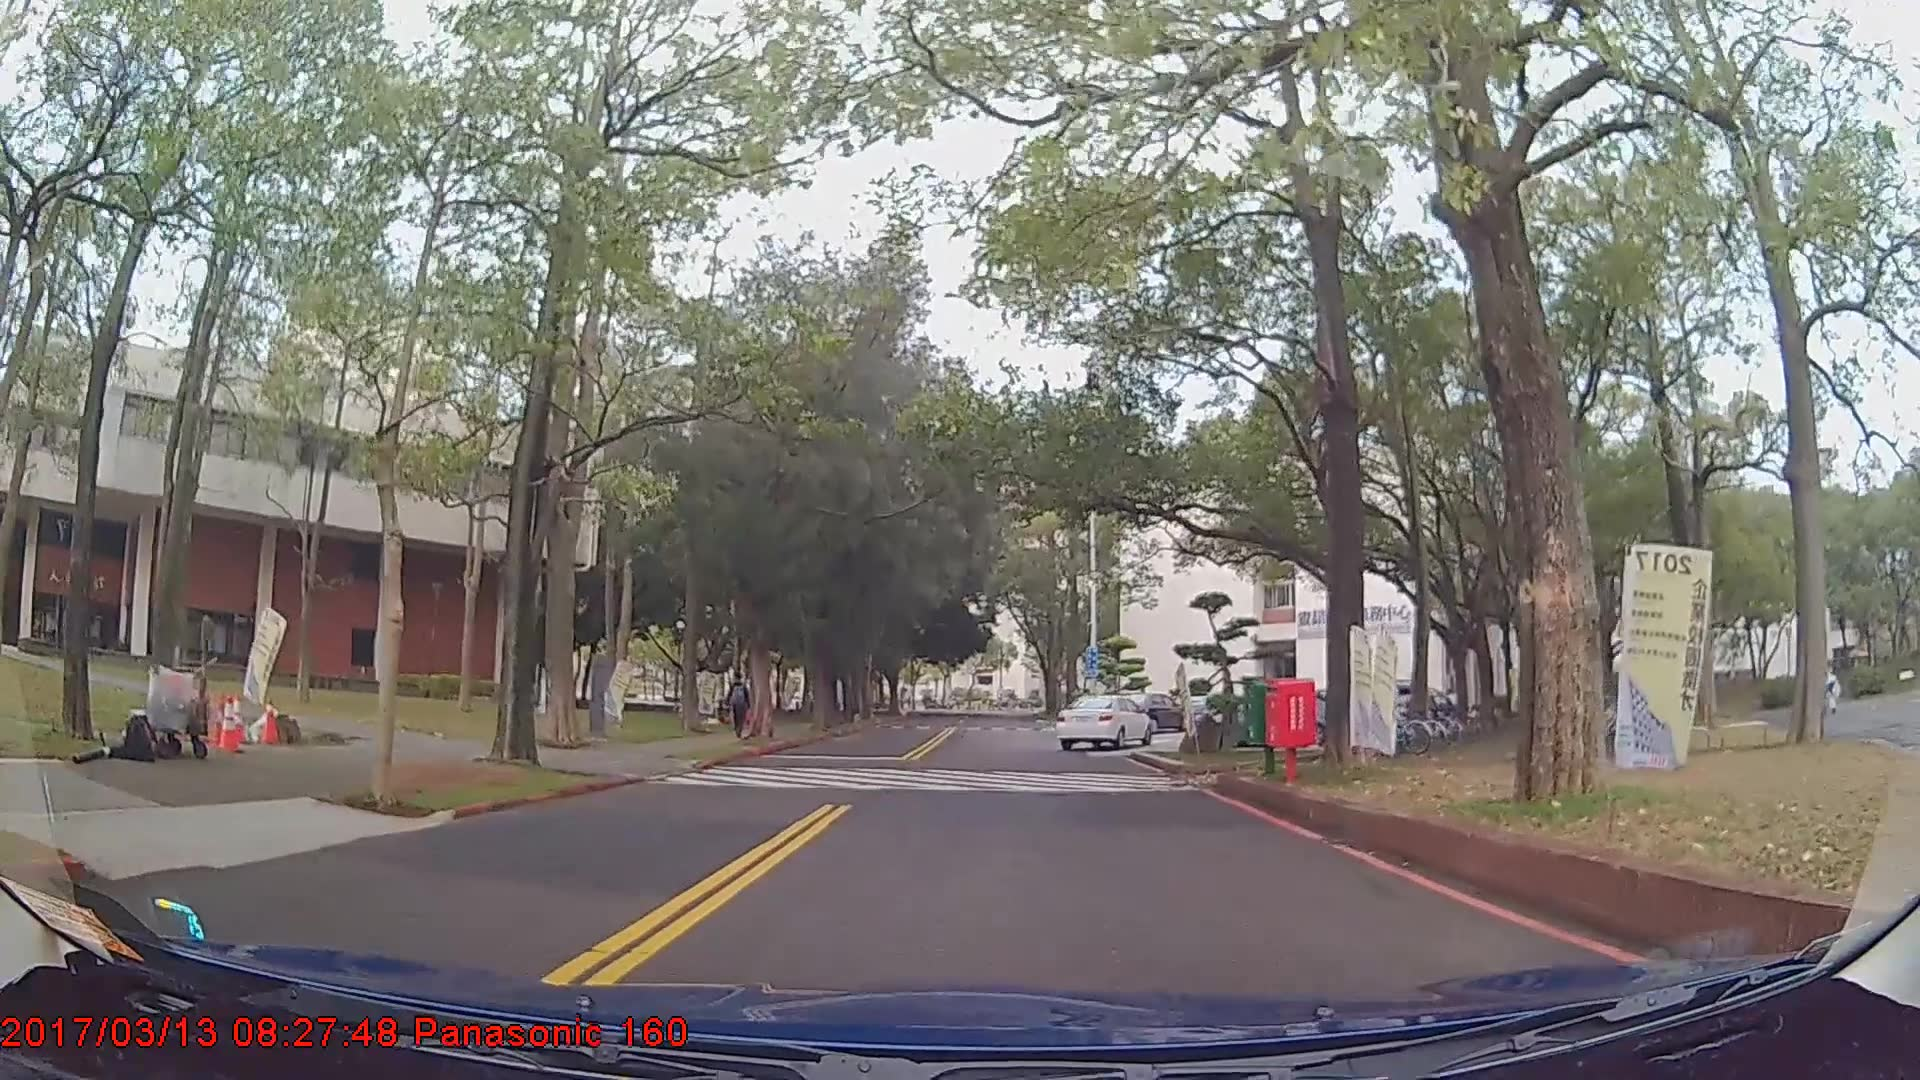pedestrian: (727, 670, 754, 736)
vehicle: (1054, 694, 1152, 751), (1115, 690, 1190, 732)
